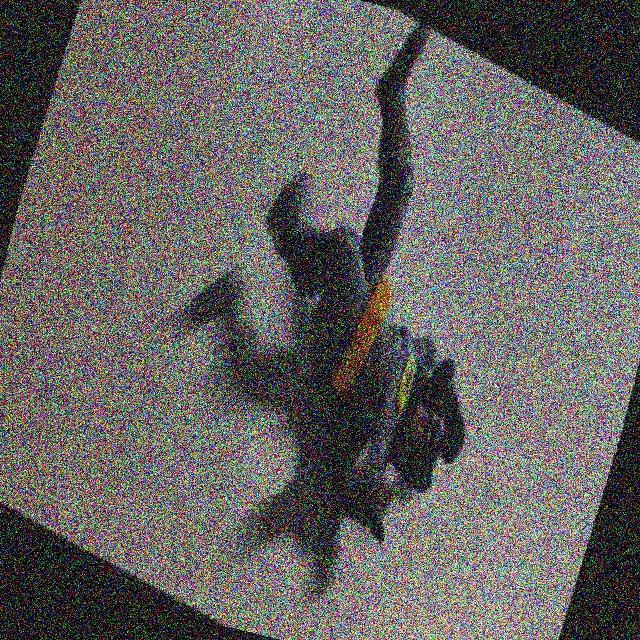Batman: (172, 0, 585, 620)
